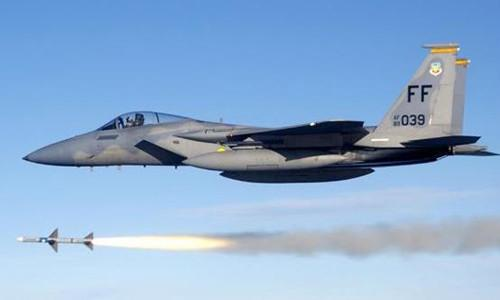airplane: (16, 41, 492, 180)
